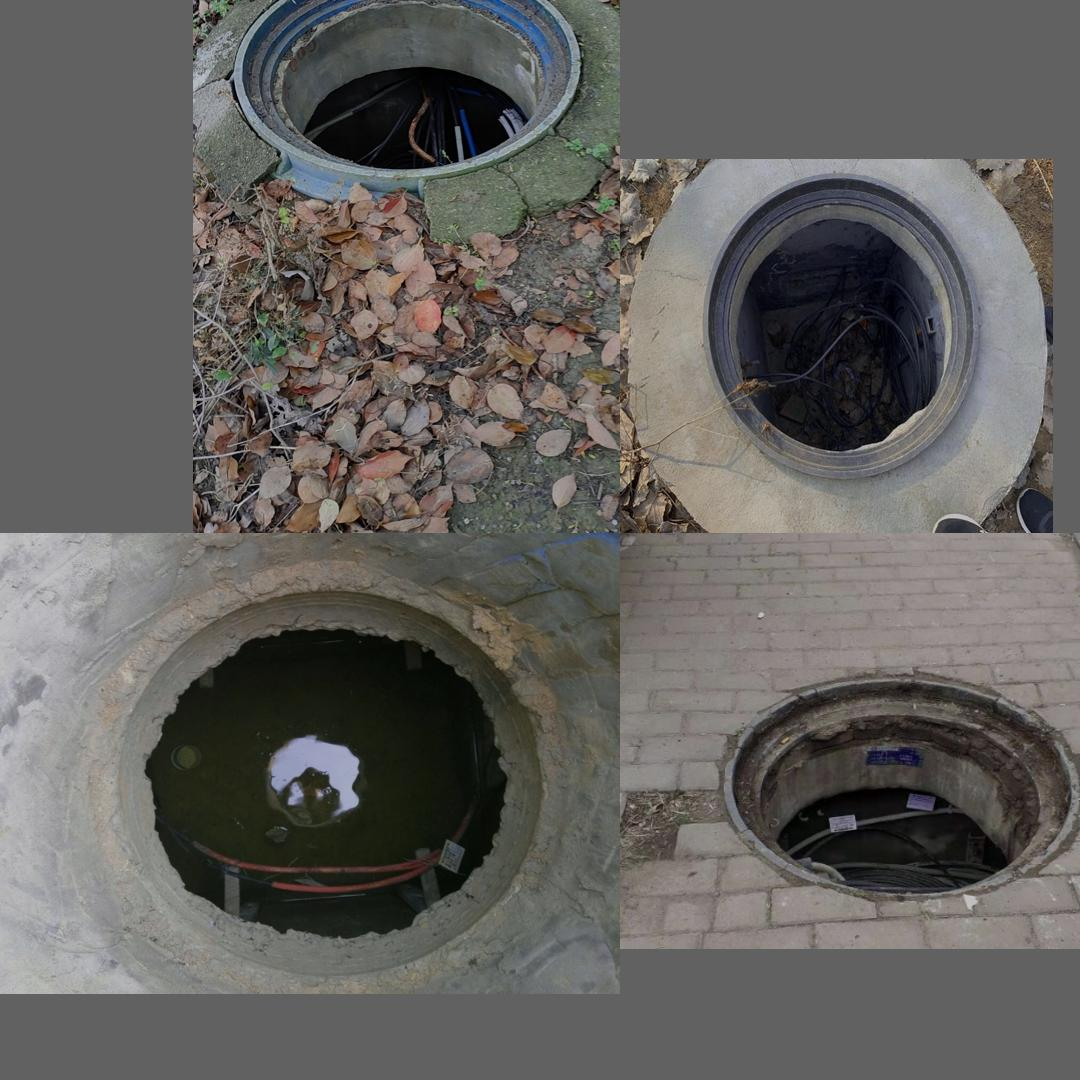lose: (93, 566, 562, 992), (646, 164, 1040, 525), (709, 657, 1080, 902), (232, 0, 582, 175)
